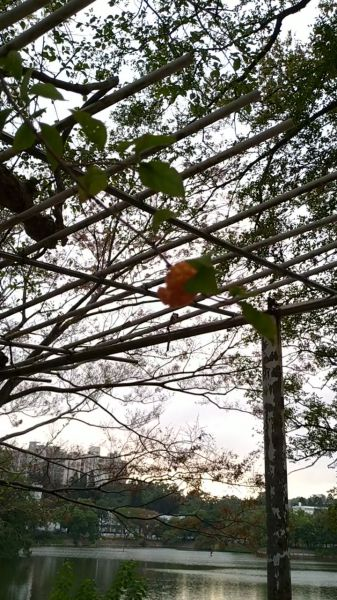eggs: (153, 258, 205, 312)
